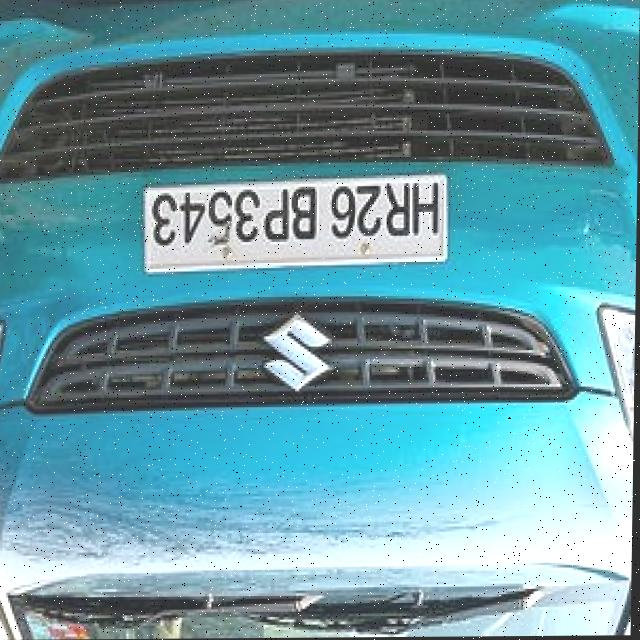plate: (146, 166, 449, 275)
